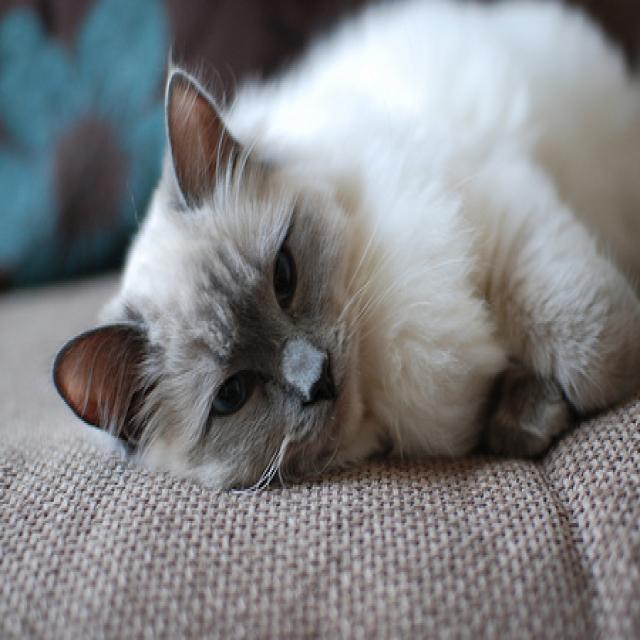Ragdoll: (48, 0, 640, 500)
